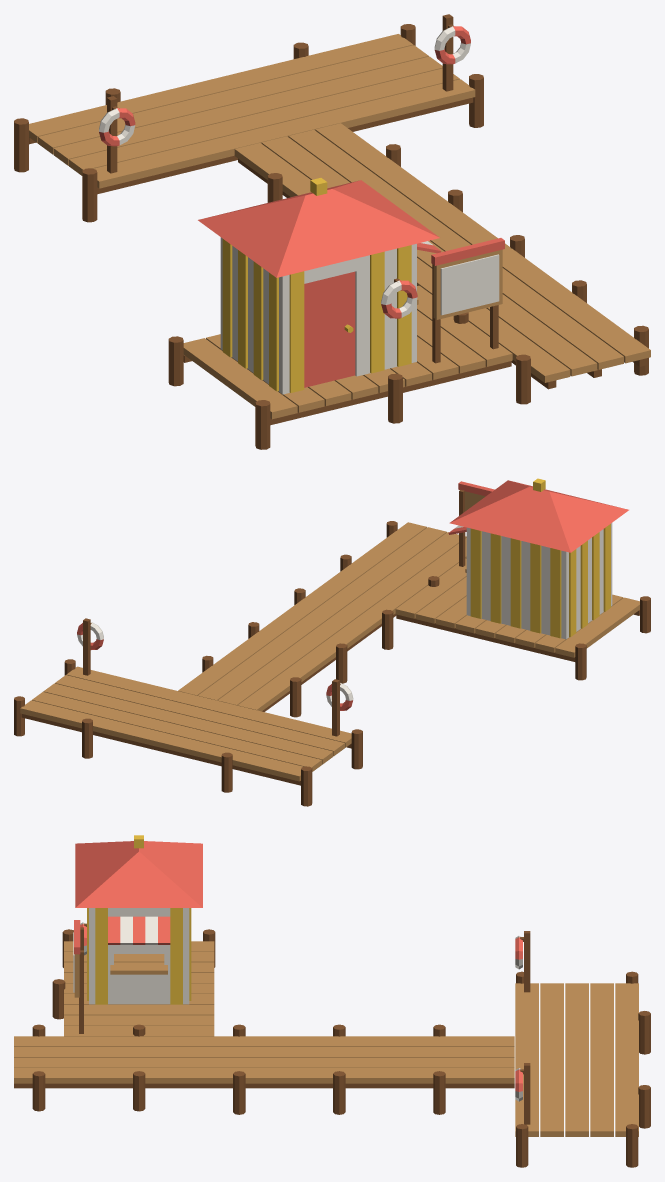
The model's file is rental-dock.glb.
The picture shows the model from 3 angles, top to bottom: view 1: azimuth 30°, elevation 25°; view 2: azimuth 150°, elevation 25°; view 3: azimuth 270°, elevation 25°; orthographic projection. The views are drawn at different scales.
Visible parts, largest first — view 1: Hut, Hut_Roof, Plank_Walk_3, Plank_THead_0, Plank_Walk_2, Plank_THead_1, Plank_THead_4, Plank_THead_2, Plank_THead_3, Door, Plank_Walk_0, Plank_Walk_1 (+22 smaller); view 2: Hut, Hut_Roof, Plank_Walk_3, Plank_Walk_2, Plank_Walk_1, Plank_Walk_0, Plank_THead_4, Plank_THead_1, Plank_THead_2, Plank_THead_3, Plank_THead_0, Plank_Platform_0 (+8 smaller); view 3: Hut, Hut_Roof, Plank_Walk_3, Plank_Walk_0, Plank_Walk_1, Plank_Walk_2, Plank_THead_1, Plank_THead_2, Plank_THead_3, Plank_THead_4, Plank_THead_0, Joist_0 (+17 smaller).
Part boxes in pixels (left/top/right/bottom): Hut: left=220, top=237, right=441, bottom=394; Hut_Roof: left=198, top=180, right=439, bottom=277; Plank_Walk_3: left=315, top=123, right=650, bottom=363; Plank_THead_0: left=93, top=79, right=475, bottom=188; Plank_Walk_2: left=288, top=129, right=623, bottom=369; Plank_THead_1: left=69, top=68, right=459, bottom=175; Plank_THead_4: left=29, top=34, right=413, bottom=143; Plank_THead_2: left=53, top=56, right=442, bottom=165; Plank_THead_3: left=38, top=45, right=428, bottom=154; Door: left=304, top=271, right=355, bottom=387; Plank_Walk_0: left=234, top=143, right=570, bottom=382; Plank_Walk_1: left=261, top=136, right=597, bottom=376; Hut: left=448, top=523, right=612, bottom=639; Hut_Roof: left=449, top=480, right=628, bottom=552; Plank_Walk_3: left=178, top=522, right=426, bottom=695; Plank_Walk_2: left=198, top=527, right=446, bottom=700; Plank_Walk_1: left=218, top=532, right=466, bottom=705; Plank_Walk_0: left=238, top=538, right=466, bottom=711; Plank_THead_4: left=20, top=700, right=303, bottom=781; Plank_THead_1: left=55, top=675, right=344, bottom=755; Plank_THead_2: left=43, top=683, right=333, bottom=764; Plank_THead_3: left=32, top=692, right=321, bottom=771; Plank_THead_0: left=66, top=666, right=351, bottom=747; Plank_Platform_0: left=555, top=597, right=639, bottom=657; Hut: left=87, top=908, right=191, bottom=1004; Hut_Roof: left=75, top=841, right=202, bottom=907; Plank_Walk_3: left=14, top=1068, right=514, bottom=1083; Plank_Walk_0: left=14, top=1036, right=514, bottom=1046; Plank_Walk_1: left=14, top=1047, right=514, bottom=1057; Plank_Walk_2: left=14, top=1057, right=514, bottom=1067; Plank_THead_1: left=540, top=983, right=563, bottom=1136; Plank_THead_2: left=565, top=983, right=588, bottom=1136; Plank_THead_3: left=590, top=983, right=613, bottom=1136; Plank_THead_4: left=615, top=983, right=638, bottom=1136; Plank_THead_0: left=515, top=983, right=538, bottom=1136; Joist_0: left=14, top=1083, right=514, bottom=1088.
Bounding box in the file's own units: 37.8 × 15.2 × 50.9.
